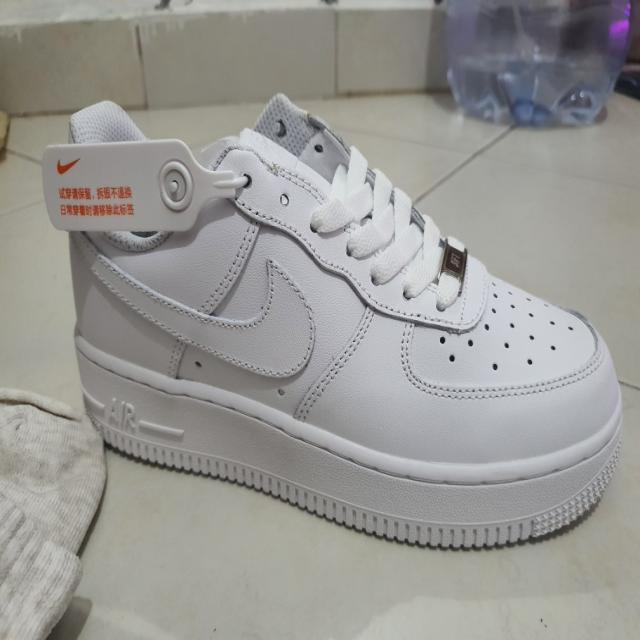nike original air force: (62, 94, 628, 550)
